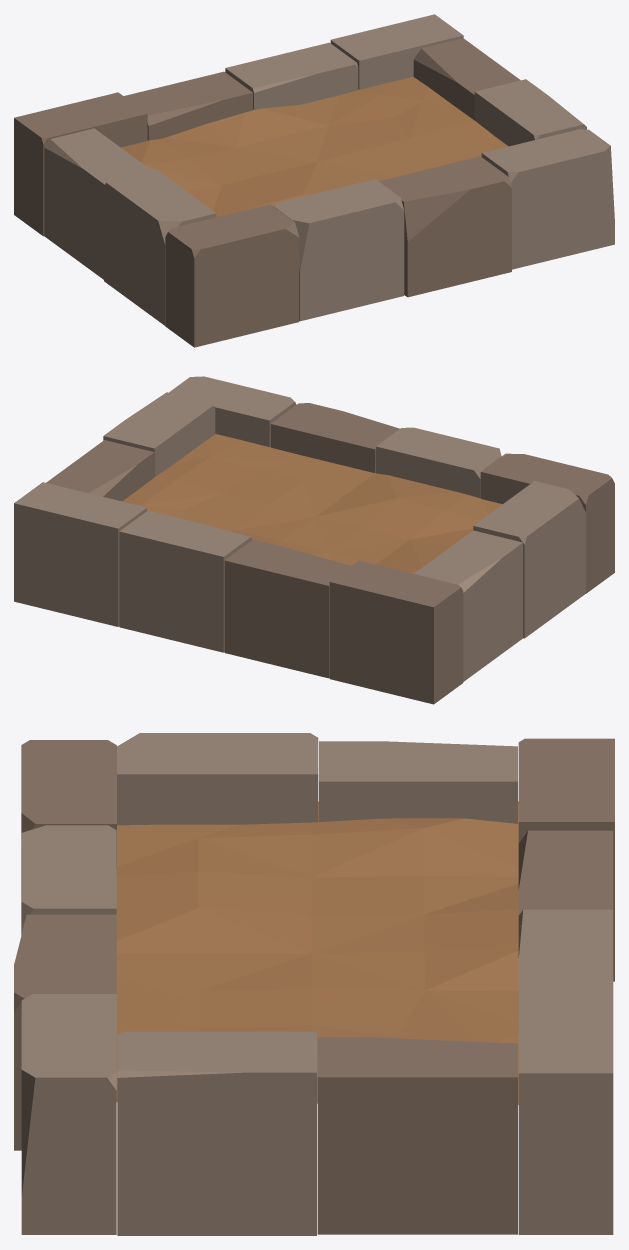
File: FlowerBed_02.fbx
The picture shows the model from 3 angles, top to bottom: view 1: azimuth 30°, elevation 25°; view 2: azimuth 150°, elevation 25°; view 3: azimuth 270°, elevation 25°; orthographic projection. The views are drawn at different scales.
Parts seen in each view (by area): view 1: FlowerBed_02; view 2: FlowerBed_02; view 3: FlowerBed_02.
Boxes of the visible parts, box(x1,y1,x2,y2) form: FlowerBed_02: box(14, 14, 614, 347); FlowerBed_02: box(14, 376, 614, 704); FlowerBed_02: box(14, 733, 614, 1235).
Bounding box in the file's own units: 118 × 26.98 × 88.92.
